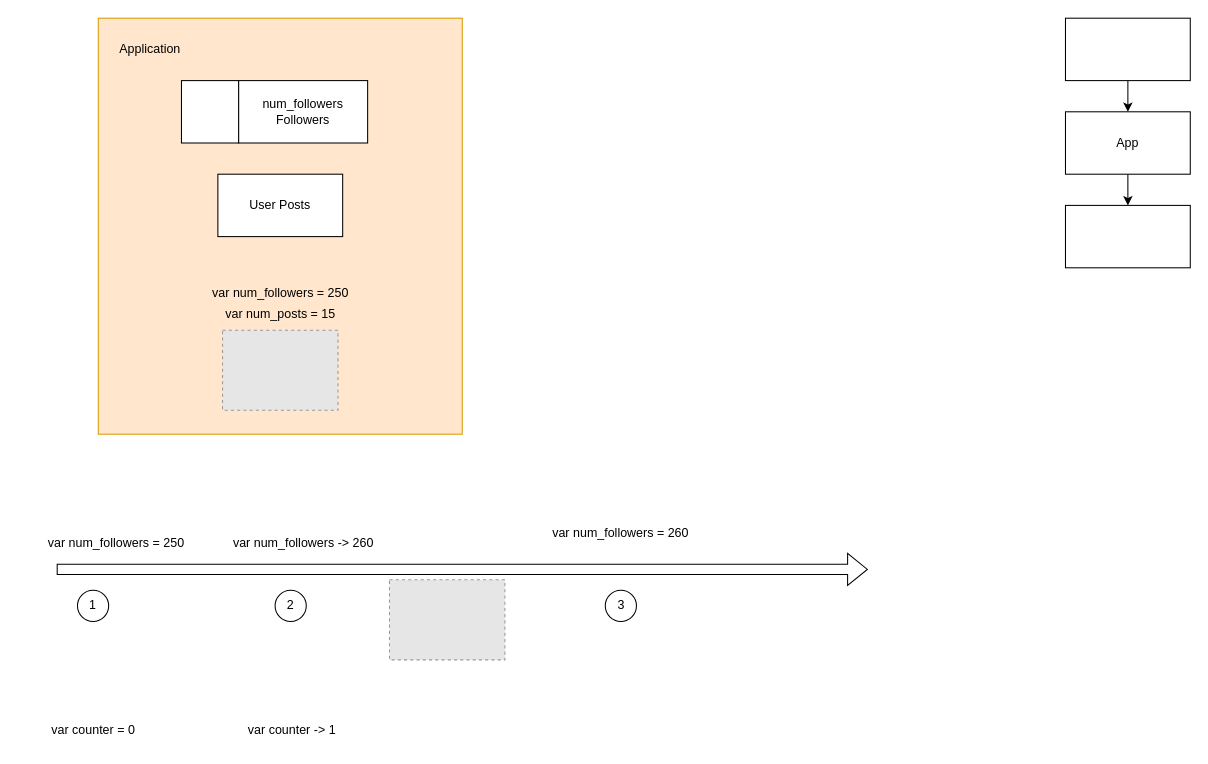
The diagram is 1208 pixels wide and 764 high, and some of its shapes have lost their labels. Grey dashed boxes stand in for pictures. The centre of each missing label's shape, as x and y in pixels:
"div" belongs at [1127,236].
"Root" belongs at [1127,49].
"User Profile" belongs at [209,111].
